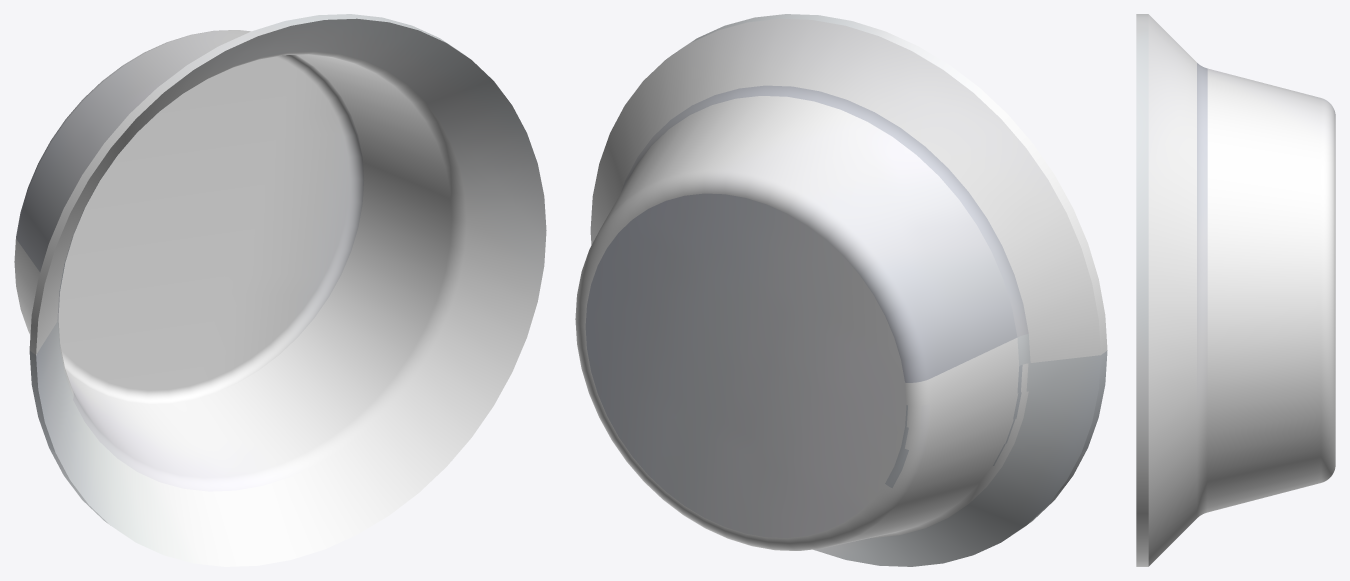
Rendered from original-9.obj.
3 renders of one model, left to right at view 1: azimuth 30°, elevation 25°; view 2: azimuth 150°, elevation 25°; view 3: azimuth 270°, elevation 25°, orthographic. The views are drawn at different scales.
Parts seen in each view (by area): view 1: group_4/ID43#ID43; view 2: group_4/ID43#ID43; view 3: group_4/ID43#ID43.
Boxes of the visible parts, <box> form: group_4/ID43#ID43: <box>14,14,546,566</box>; group_4/ID43#ID43: <box>575,14,1107,566</box>; group_4/ID43#ID43: <box>1136,14,1335,566</box>.
Size of the model in its own units: 0.5888 by 0.5888 by 0.2123.
Materials: 1 (1 with a texture image).
